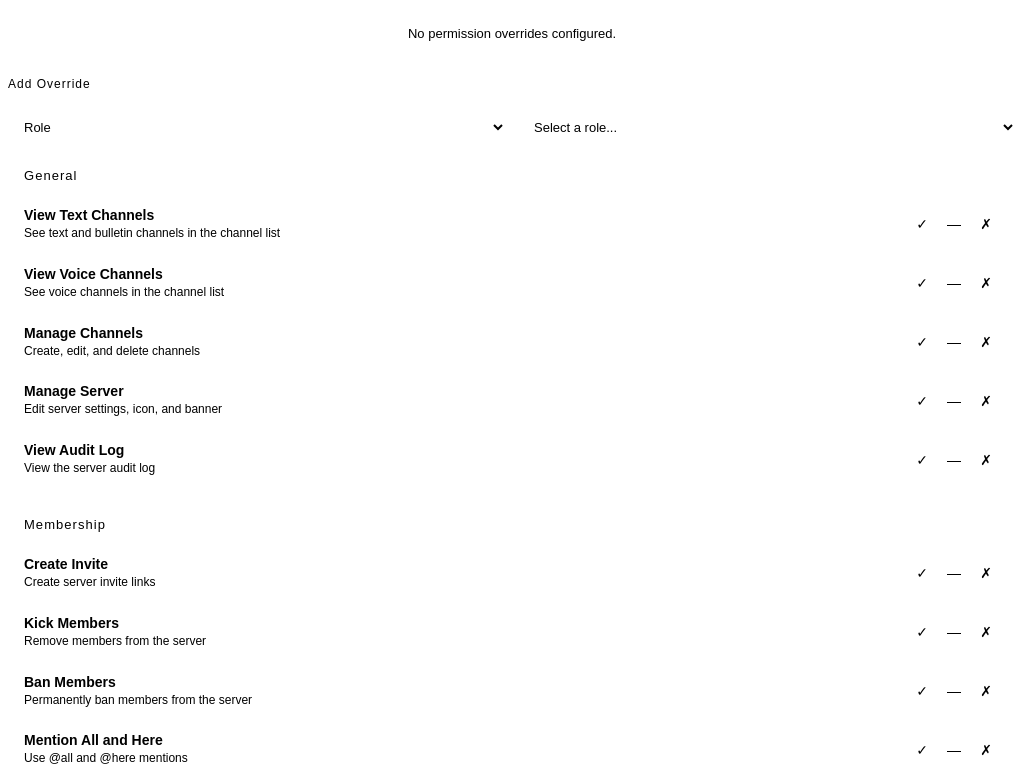
Scenario: OverridePanel › enables Add button when target selected
This screenshot has width=1024, height=766.
Select "Moderator" in the dropdown named "Override target": point(767, 128) [518,111,1016,144]
(page scrolled)
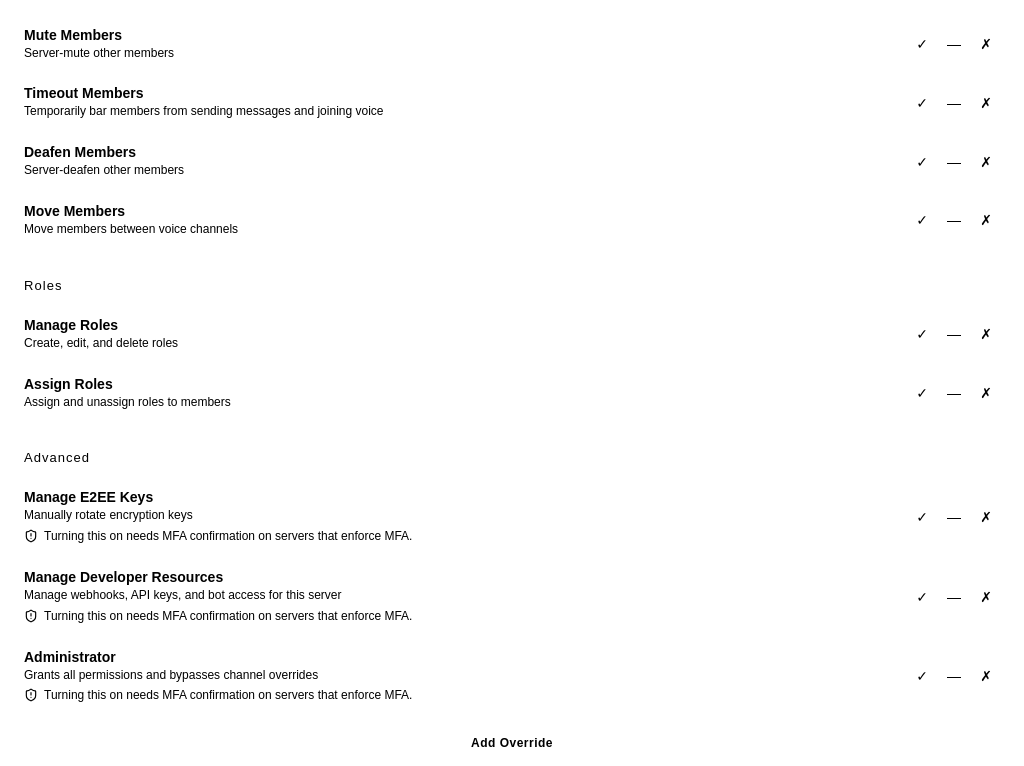
Now the button "Add Override" is enabled, box [8,728,1016,758]
